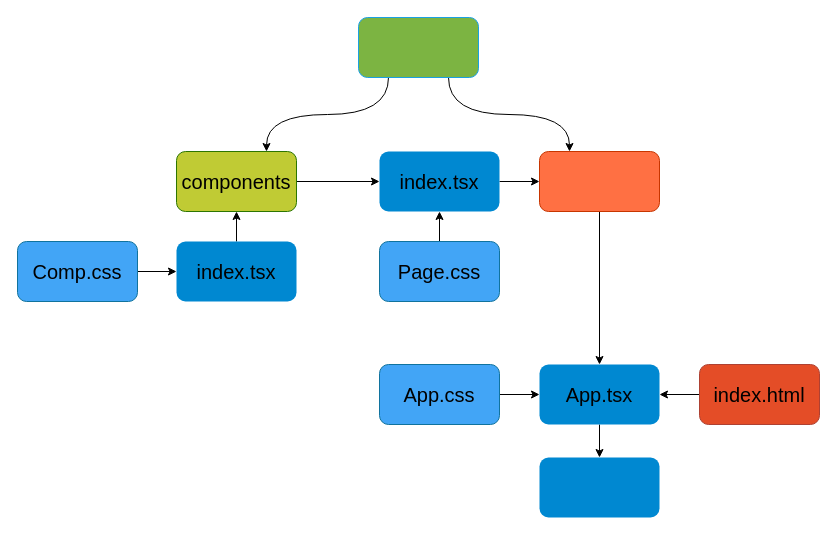
The diagram is 837 pixels wide and 535 high, and some of its shapes have lost their labels. Each missing label, with the centre of its shape:
"main.tsx" belongs at (599,487).
"pages" belongs at (599,181).
"utils" belongs at (418,47).
